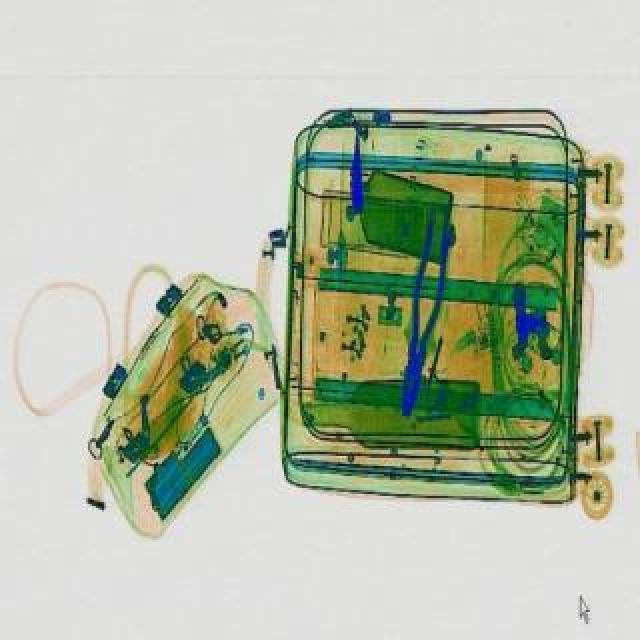wrench: (390, 210, 456, 416)
